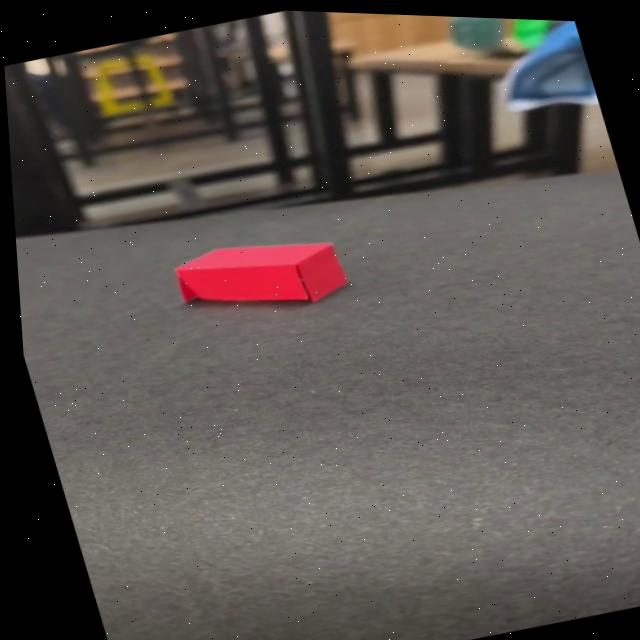red block: (167, 218, 356, 331)
